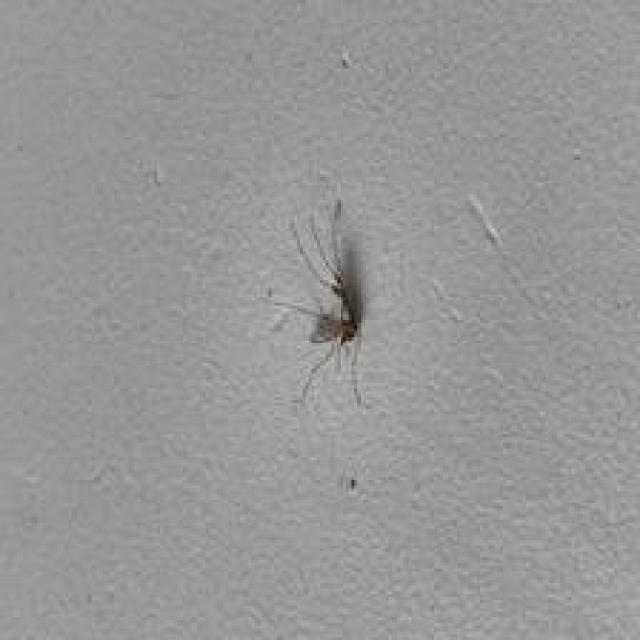Culex: (266, 196, 368, 407)
